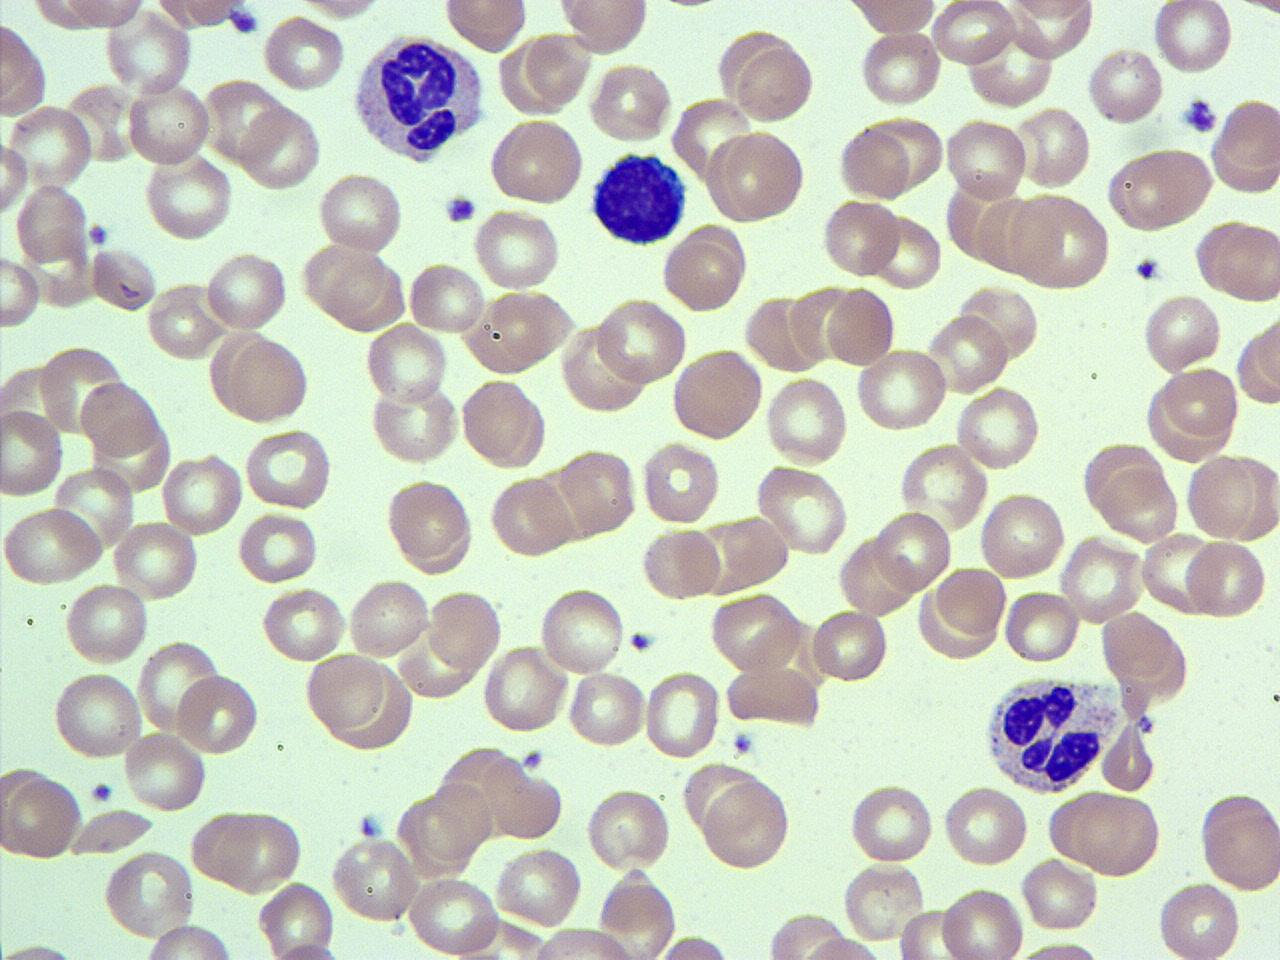Platelets: (1179, 96, 1219, 136), (442, 191, 479, 226), (227, 7, 260, 35), (626, 628, 660, 654), (356, 811, 386, 840), (730, 727, 756, 756), (87, 222, 113, 249), (1134, 255, 1160, 282), (1136, 714, 1154, 733)
RBC: (1006, 192, 1114, 291), (1046, 790, 1164, 880), (706, 128, 810, 225), (1105, 146, 1217, 234), (1099, 606, 1193, 707), (669, 345, 765, 444), (896, 439, 991, 536), (101, 846, 196, 943), (753, 463, 851, 557), (1196, 788, 1280, 896), (473, 285, 578, 372), (976, 487, 1069, 584), (487, 117, 587, 208), (50, 667, 145, 761), (382, 474, 474, 572), (0, 506, 106, 590), (593, 295, 689, 386), (702, 774, 792, 872), (329, 834, 421, 927), (458, 376, 549, 470), (852, 346, 949, 433), (536, 584, 627, 677), (103, 6, 195, 97), (143, 150, 235, 241), (660, 222, 751, 314), (6, 100, 95, 194), (706, 590, 804, 674), (367, 379, 461, 467), (1058, 533, 1146, 627), (135, 636, 219, 734), (315, 168, 406, 258), (480, 644, 568, 736), (764, 373, 850, 468), (407, 872, 504, 956), (943, 114, 1031, 206), (242, 426, 335, 512), (471, 206, 563, 292), (38, 342, 122, 438), (955, 382, 1043, 472), (847, 779, 937, 866), (584, 786, 671, 874), (942, 782, 1030, 870), (493, 844, 586, 928), (158, 451, 244, 539), (203, 247, 289, 334), (63, 581, 150, 668), (120, 727, 208, 813), (126, 81, 212, 168), (225, 336, 310, 424), (54, 462, 137, 553), (643, 668, 722, 762), (840, 859, 926, 945), (238, 103, 324, 190), (1184, 452, 1266, 543), (640, 438, 722, 528), (110, 520, 200, 602), (220, 808, 305, 892), (345, 576, 432, 658), (1155, 877, 1243, 960), (560, 444, 640, 534), (364, 320, 449, 404), (176, 671, 260, 756), (1182, 536, 1268, 620), (927, 310, 1010, 396), (1, 773, 83, 861), (957, 281, 1041, 366), (818, 196, 902, 280), (488, 474, 570, 560), (858, 27, 943, 109), (588, 62, 673, 143), (258, 584, 346, 664), (1138, 528, 1215, 618), (261, 12, 347, 93), (79, 376, 160, 460), (1139, 292, 1223, 374), (566, 667, 648, 750), (1014, 104, 1092, 192), (938, 882, 1026, 960), (144, 280, 226, 363), (1085, 43, 1165, 128), (427, 585, 504, 673), (303, 650, 385, 732), (872, 509, 951, 593), (236, 508, 321, 586), (1203, 219, 1280, 305), (256, 877, 338, 957), (1019, 854, 1101, 934), (721, 664, 823, 726), (736, 45, 816, 125), (1099, 468, 1183, 544), (1149, 0, 1235, 75), (810, 606, 890, 686), (0, 404, 66, 500), (869, 113, 946, 194), (1002, 587, 1082, 665), (824, 282, 896, 369), (1158, 366, 1240, 442), (640, 524, 722, 600), (836, 123, 912, 202), (405, 259, 486, 334), (15, 183, 87, 266), (188, 806, 262, 886), (930, 0, 1018, 68), (874, 210, 944, 292), (934, 564, 1010, 640), (522, 29, 594, 108), (554, 0, 651, 57), (1214, 96, 1280, 177), (0, 20, 50, 120), (441, 0, 530, 56), (88, 245, 160, 314), (1101, 712, 1157, 794), (526, 925, 640, 960), (138, 922, 241, 960), (896, 906, 968, 960), (842, 0, 942, 36), (0, 251, 43, 330), (151, 0, 248, 32), (59, 0, 150, 31), (647, 930, 740, 960), (796, 934, 888, 960), (0, 136, 30, 215), (1010, 938, 1116, 960), (258, 938, 360, 960), (0, 938, 93, 960)
WBC: (346, 28, 490, 166), (980, 668, 1120, 798), (587, 146, 691, 248)
